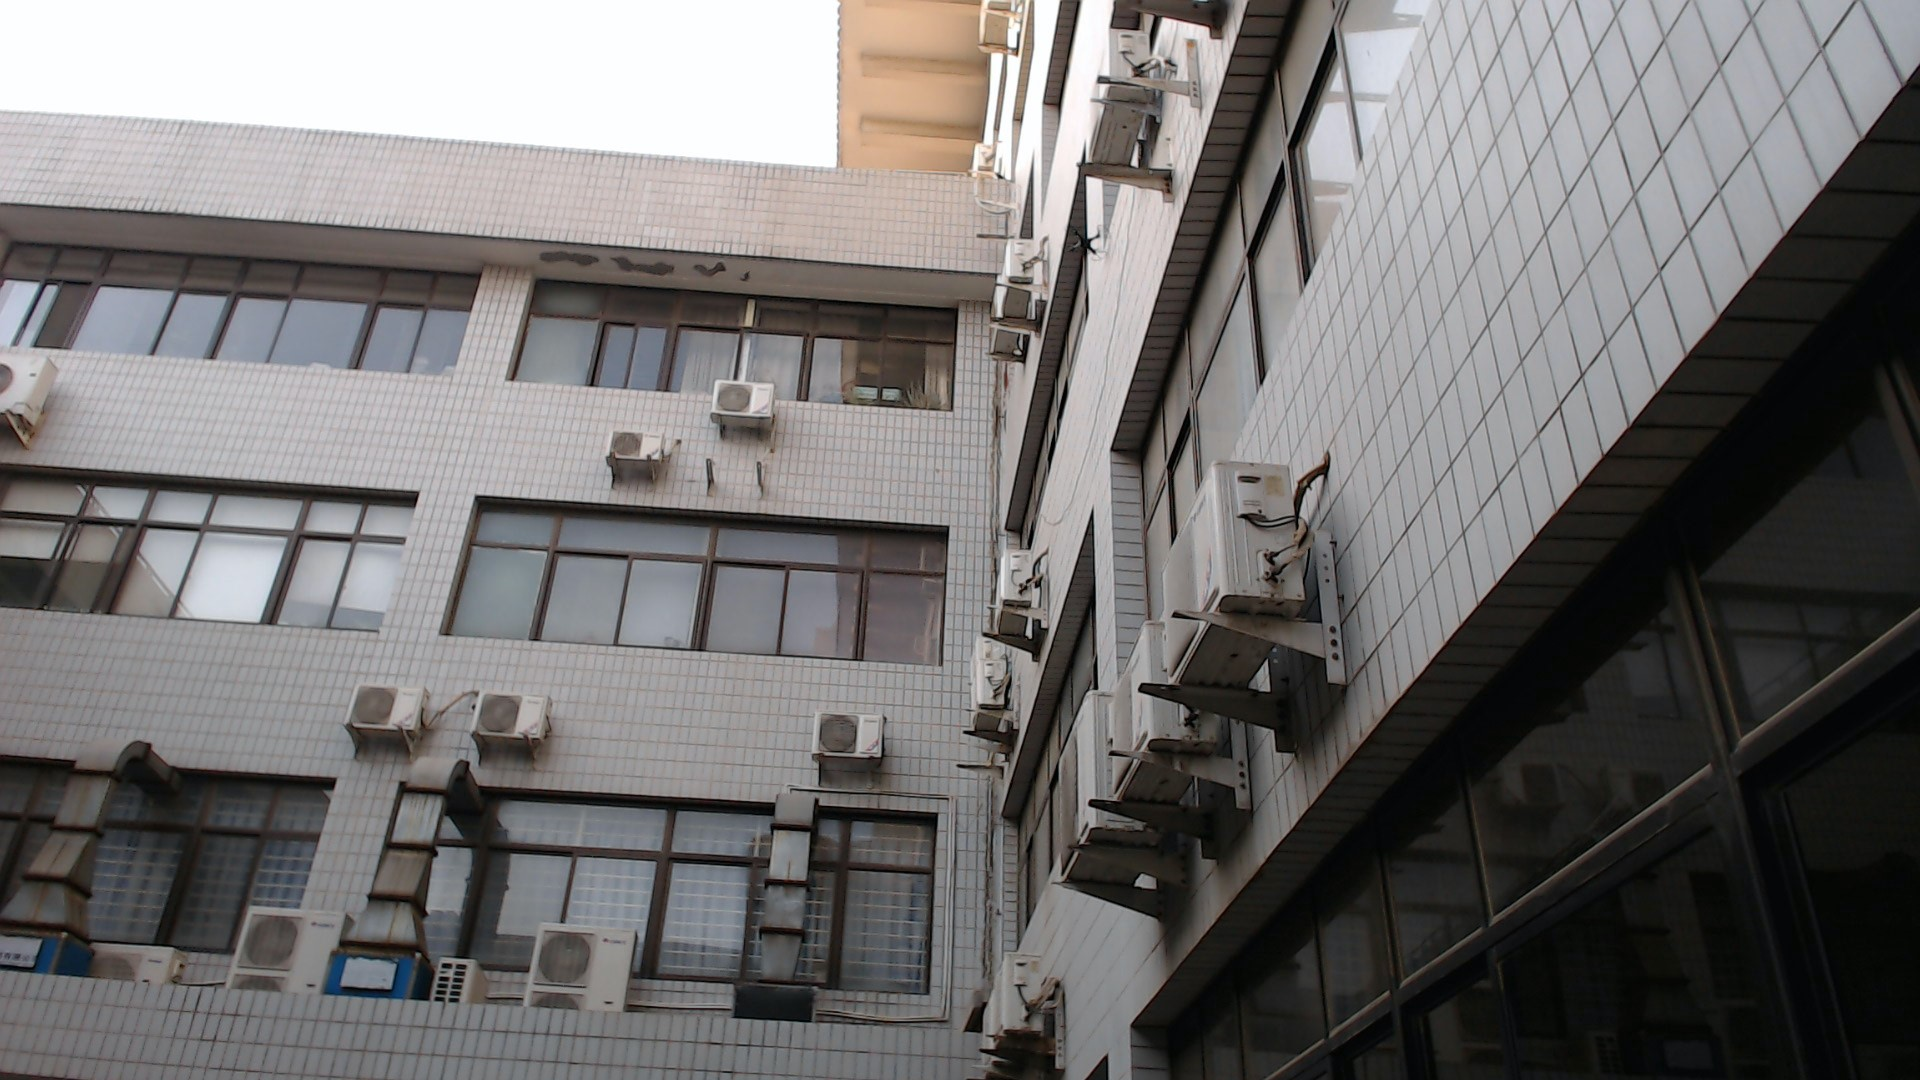drone: (1058, 220, 1113, 262)
